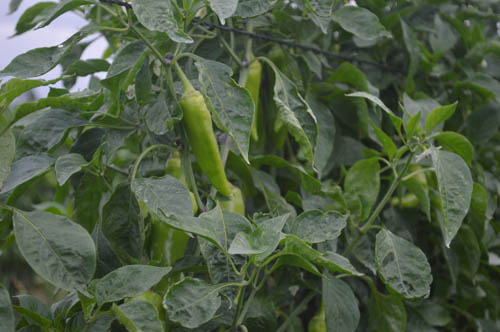ChiliPepper: (183, 95, 231, 195), (240, 58, 259, 141)
